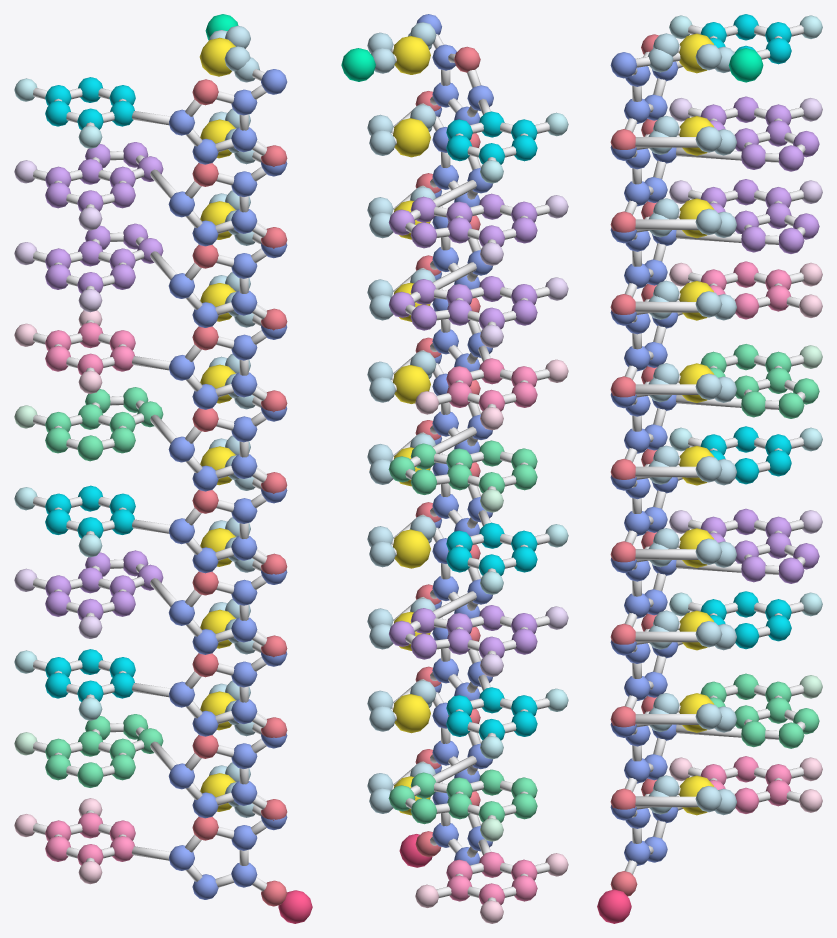
The model's file is Strand_B.glb.
3 renders of one model, left to right at view 1: azimuth 30°, elevation 25°; view 2: azimuth 150°, elevation 25°; view 3: azimuth 270°, elevation 25°, orthographic.
Visible parts, largest first — view 1: B_Base_05_A_Ring, B_Base_09_A_Ring, B_Base_03_G_Ring, B_Base_02_G_Ring, B_Base_07_G_Ring, B_Base_10_T_Ring, B_Base_06_C_Ring, B_Base_04_T_Ring, B_Base_01_C_Ring, B_Base_08_C_Ring, B_Sugar_01_Carbon_B, B_Sugar_07_Carbon_B (+67 smaller); view 2: B_Base_09_A_Ring, B_Base_05_A_Ring, B_Base_02_G_Ring, B_Base_07_G_Ring, B_Base_03_G_Ring, B_Base_01_C_Ring, B_Base_06_C_Ring, B_Base_08_C_Ring, B_Base_10_T_Ring, B_Base_04_T_Ring, B_Sugar_01_Carbon_B, B_Base_03_G_Bonds (+54 smaller); view 3: B_Base_02_G_Ring, B_Base_09_A_Ring, B_Base_05_A_Ring, B_Base_03_G_Ring, B_Base_07_G_Ring, B_Base_06_C_Ring, B_Base_08_C_Ring, B_Base_04_T_Ring, B_Base_10_T_Ring, B_Sugar_01_Carbon_B, B_Base_01_C_Ring, B_Phosphate_01_Oxygen_B (+77 smaller).
Boxes of the visible parts, left/top/right/bottom form: B_Base_05_A_Ring: left=45, top=387, right=163, bottom=461; B_Base_09_A_Ring: left=45, top=714, right=163, bottom=787; B_Base_03_G_Ring: left=45, top=223, right=163, bottom=293; B_Base_02_G_Ring: left=45, top=142, right=163, bottom=211; B_Base_07_G_Ring: left=45, top=550, right=163, bottom=620; B_Base_10_T_Ring: left=45, top=812, right=135, bottom=865; B_Base_06_C_Ring: left=45, top=485, right=135, bottom=538; B_Base_04_T_Ring: left=45, top=322, right=135, bottom=375; B_Base_01_C_Ring: left=45, top=77, right=135, bottom=129; B_Base_08_C_Ring: left=45, top=649, right=135, bottom=701; B_Sugar_01_Carbon_B: left=169, top=69, right=287, bottom=164; B_Sugar_07_Carbon_B: left=168, top=569, right=287, bottom=654; B_Base_09_A_Ring: left=388, top=769, right=537, bottom=824; B_Base_05_A_Ring: left=388, top=440, right=537, bottom=494; B_Base_02_G_Ring: left=388, top=193, right=537, bottom=248; B_Base_07_G_Ring: left=389, top=605, right=537, bottom=659; B_Base_03_G_Ring: left=389, top=276, right=537, bottom=330; B_Base_01_C_Ring: left=446, top=111, right=537, bottom=164; B_Base_06_C_Ring: left=446, top=522, right=537, bottom=575; B_Base_08_C_Ring: left=446, top=687, right=537, bottom=740; B_Base_10_T_Ring: left=446, top=851, right=537, bottom=904; B_Base_04_T_Ring: left=446, top=358, right=537, bottom=411; B_Sugar_01_Carbon_B: left=416, top=14, right=493, bottom=124; B_Base_03_G_Bonds: left=405, top=262, right=549, bottom=325; B_Base_02_G_Ring: left=700, top=96, right=819, bottom=171; B_Base_09_A_Ring: left=700, top=673, right=819, bottom=748; B_Base_05_A_Ring: left=700, top=344, right=819, bottom=418; B_Base_03_G_Ring: left=700, top=179, right=819, bottom=253; B_Base_07_G_Ring: left=700, top=508, right=819, bottom=583; B_Base_06_C_Ring: left=700, top=426, right=791, bottom=484; B_Base_08_C_Ring: left=700, top=591, right=791, bottom=649; B_Base_04_T_Ring: left=700, top=261, right=791, bottom=319; B_Base_10_T_Ring: left=700, top=756, right=791, bottom=813; B_Sugar_01_Carbon_B: left=610, top=52, right=678, bottom=123; B_Base_01_C_Ring: left=700, top=14, right=791, bottom=64; B_Phosphate_01_Oxygen_B: left=648, top=33, right=734, bottom=72.
Size of the model in its own units: 0.0864 by 0.3597 by 0.0844.
